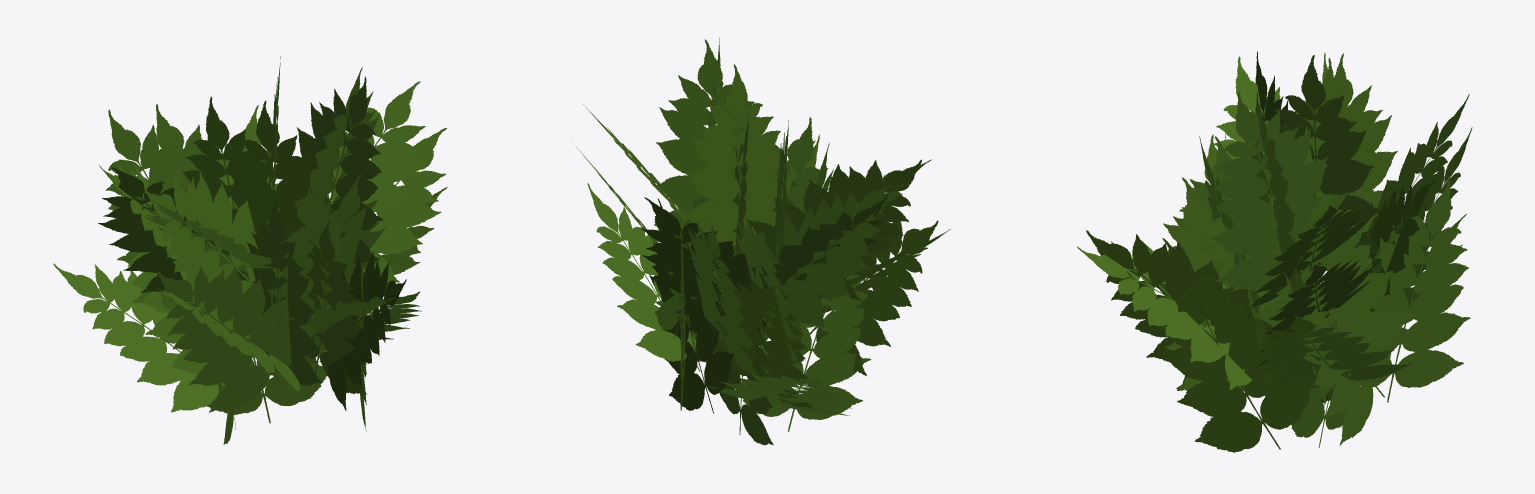
File: SM_Bush.glb
3 views of the same model, side by side, from view 1: azimuth 30°, elevation 25°; view 2: azimuth 150°, elevation 25°; view 3: azimuth 270°, elevation 25° (orthographic). The views are drawn at different scales.
Parts seen in each view (by area): view 1: SM_Bush; view 2: SM_Bush; view 3: SM_Bush.
Part boxes in pixels (left/top/right/bottom): SM_Bush: left=53, top=56, right=447, bottom=444; SM_Bush: left=576, top=37, right=950, bottom=445; SM_Bush: left=1077, top=51, right=1472, bottom=452.
Size of the model in its own units: 1.52 by 1.42 by 1.47.
Materials: 1 (1 with a texture image).
